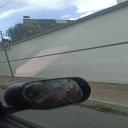NoEstacionar: (0, 40, 13, 53)
